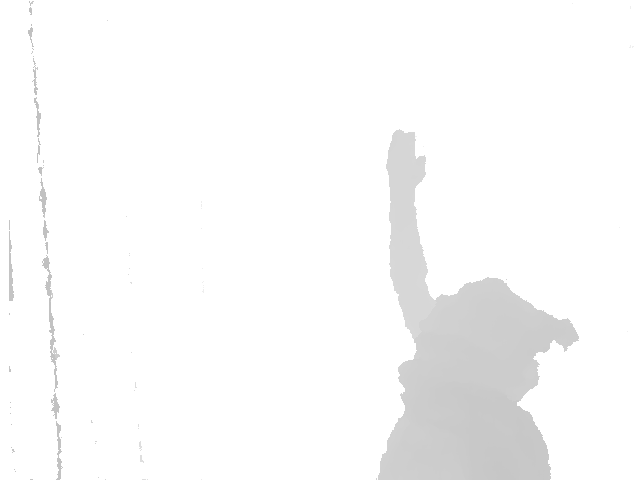hand: (385, 129, 428, 187)
head: (420, 271, 579, 395)
person: (377, 129, 578, 479)
